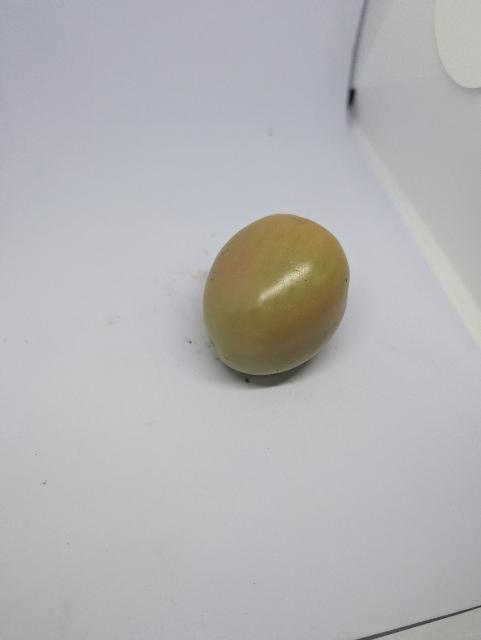breaker: (191, 207, 357, 389)
